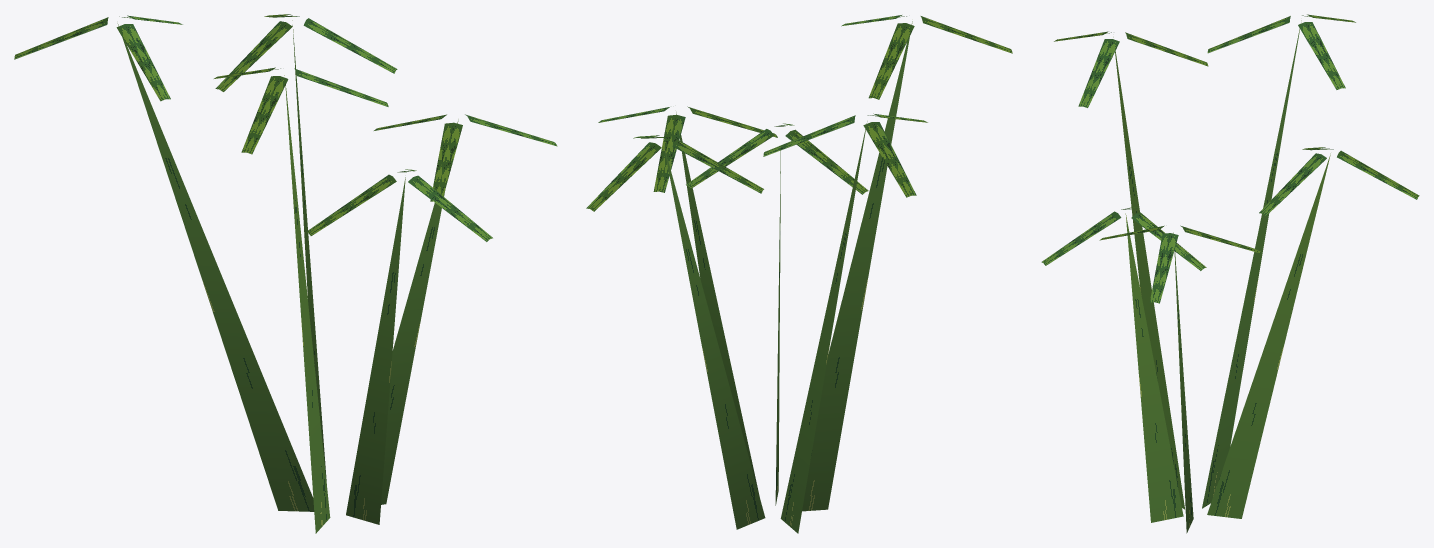
File: wild.reeds__papyrus.glb
The picture shows the model from 3 angles, left to right: view 1: azimuth 30°, elevation 25°; view 2: azimuth 150°, elevation 25°; view 3: azimuth 270°, elevation 25°; orthographic projection. The views are drawn at different scales.
Visible parts, largest first — view 1: kit_shell_blades; view 2: kit_shell_blades; view 3: kit_shell_blades.
Boxes of the visible parts, <box> form: kit_shell_blades: <box>14,14,557,533</box>; kit_shell_blades: <box>586,15,1012,533</box>; kit_shell_blades: <box>1041,14,1419,533</box>.
Size of the model in its own units: 1.71 by 1.87 by 1.47.
Materials: 2 (2 with a texture image).
